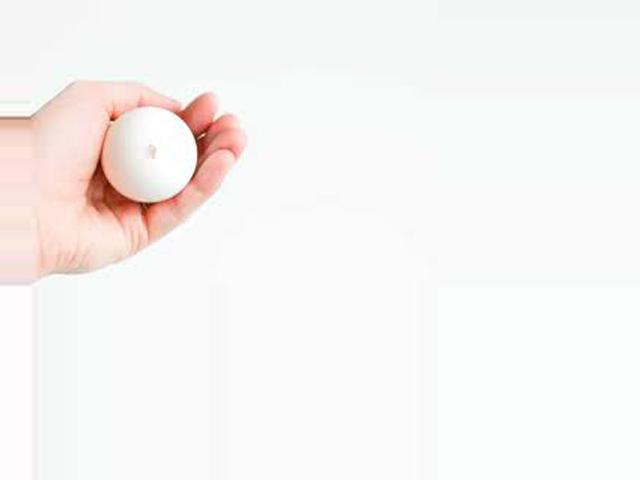egg: (102, 109, 197, 201)
